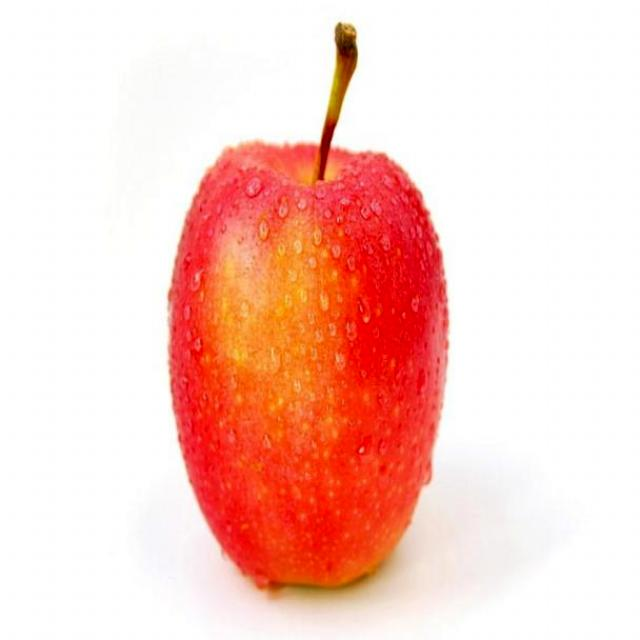HEALTHY: (154, 133, 453, 613)
